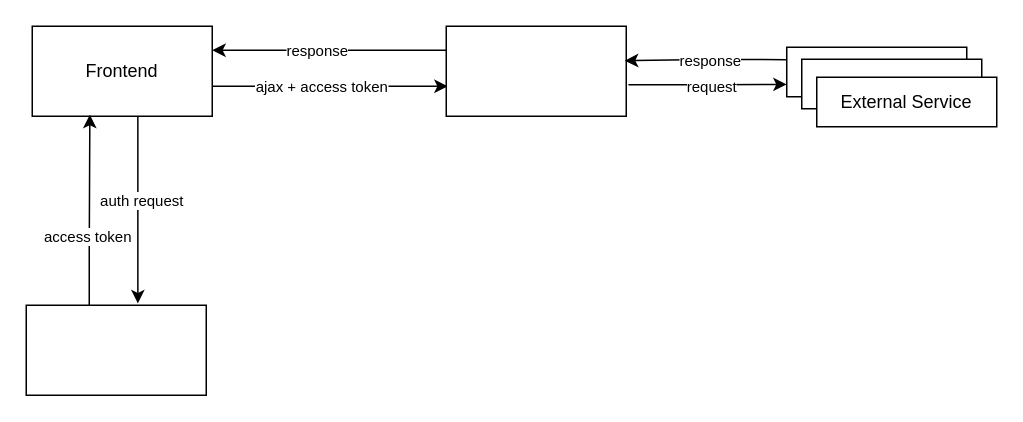
This 1023x422 diagram has some shape labels left out. The centre of each missing label's shape, as x and y in pixels:
Auth Service: point (115, 349)
Search Api: point (535, 70)
